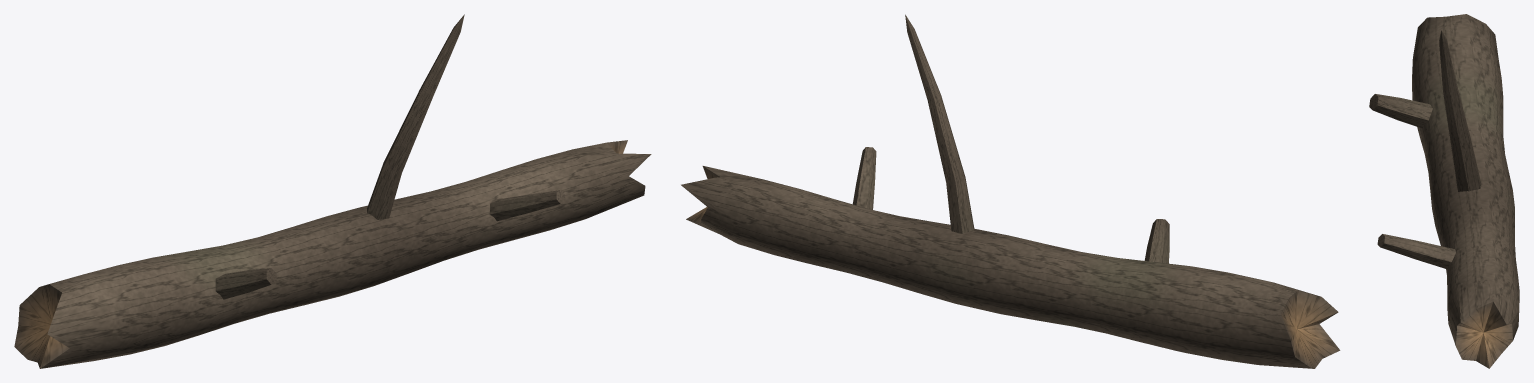
Rendered from fm_trunk_fallen_dead_b.glb.
The picture shows the model from 3 angles, left to right: view 1: azimuth 30°, elevation 25°; view 2: azimuth 150°, elevation 25°; view 3: azimuth 270°, elevation 25°; orthographic projection. The views are drawn at different scales.
Parts seen in each view (by area): view 1: fm_trunk_fallen_dead_b; view 2: fm_trunk_fallen_dead_b; view 3: fm_trunk_fallen_dead_b.
Part boxes in pixels (x1=…): fm_trunk_fallen_dead_b: x1=14, y1=14, x2=651, y2=368; fm_trunk_fallen_dead_b: x1=681, y1=14, x2=1340, y2=368; fm_trunk_fallen_dead_b: x1=1369, y1=14, x2=1519, y2=368.
Size of the model in its own units: 4.83 by 1.91 by 0.9903.
1 material, 1 textured.
